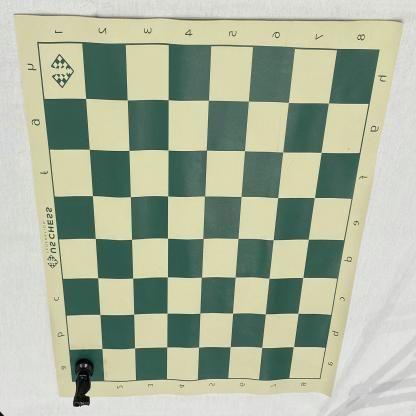black-knight: (72, 358, 96, 408)
